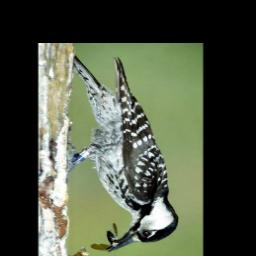Woodpecker: (73, 52, 180, 252)
